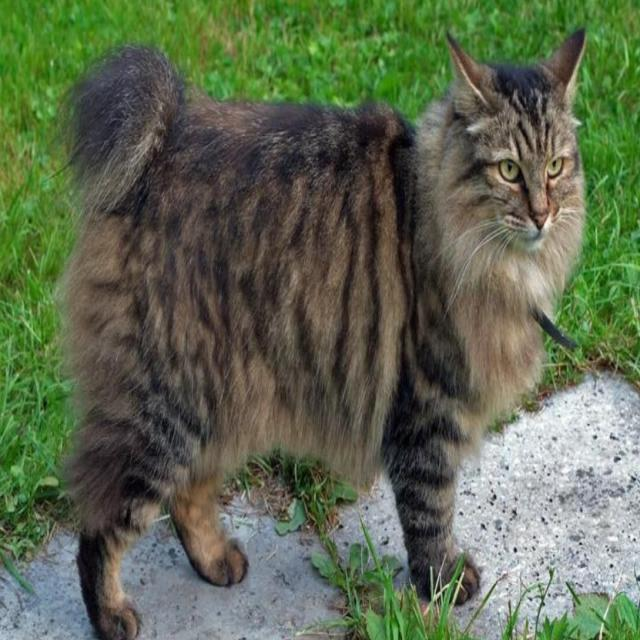American Bobtail: (55, 22, 592, 640)
